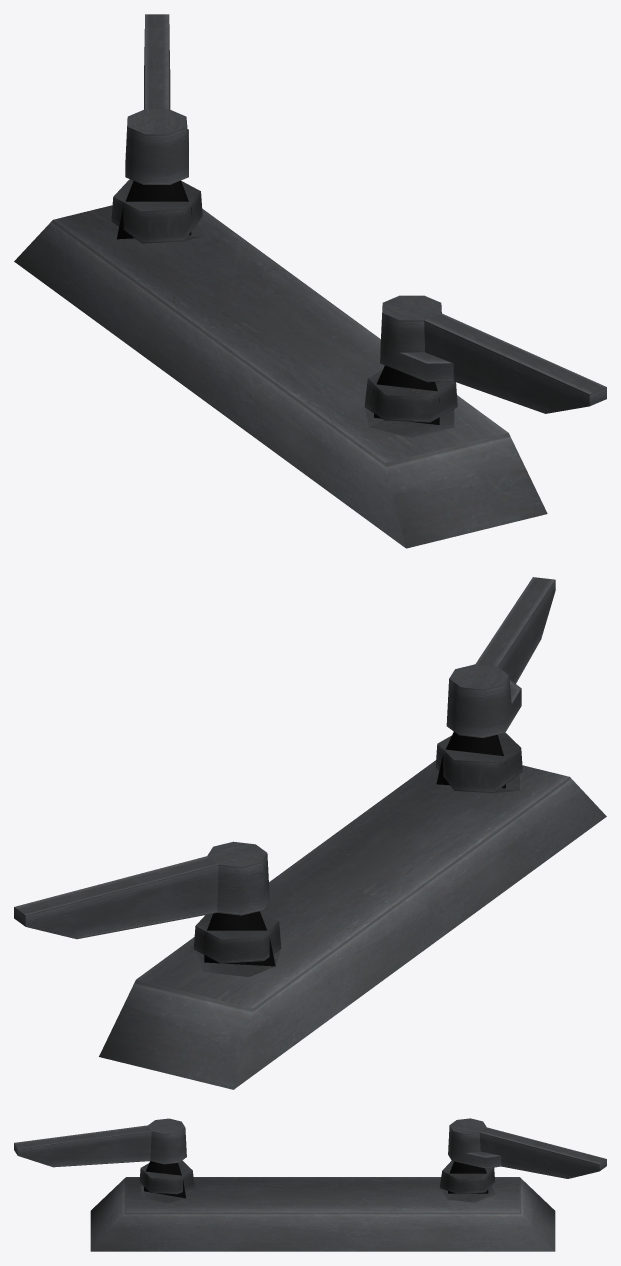
The model's file is p6_kitchen_sink_faucet_handles_lod1.glb.
The picture shows the model from 3 angles, top to bottom: view 1: azimuth 30°, elevation 25°; view 2: azimuth 150°, elevation 25°; view 3: azimuth 270°, elevation 25°; orthographic projection. The views are drawn at different scales.
Visible parts, largest first — view 1: surf1, surf0; view 2: surf1, surf0; view 3: surf1, surf0.
Boxes of the visible parts, x1,y1,x2,y2 form: surf1: (14,14,606,548); surf0: (117,180,439,424); surf1: (14,577,606,1089); surf0: (204,732,505,966); surf1: (14,1118,606,1251); surf0: (144,1161,488,1198).
Bounding box in the file's own units: 1.79 × 1.56 × 8.02.
